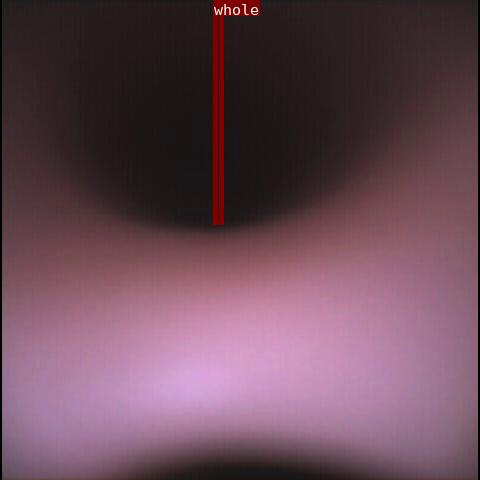whole: (213, 0, 223, 224)
